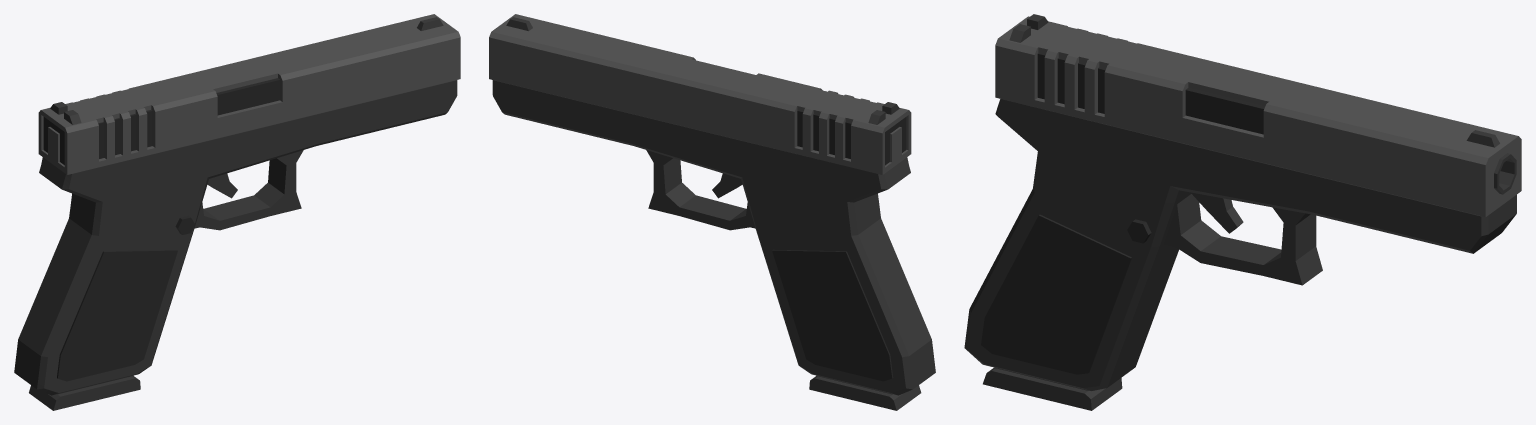
File: SideArm.fbx
3 renders of one model, left to right at view 1: azimuth 30°, elevation 25°; view 2: azimuth 150°, elevation 25°; view 3: azimuth 330°, elevation 25°, orthographic. The views are drawn at different scales.
Visible parts, largest first — view 1: Weapon_01, Weapon_01_2, Weapon_01_4, Weapon_01_3; view 2: Weapon_01, Weapon_01_2, Weapon_01_4, Weapon_01_3; view 3: Weapon_01, Weapon_01_2, Weapon_01_4, Weapon_01_3.
Boxes of the visible parts, bbox=[...] form: Weapon_01: bbox=[14, 78, 457, 395]; Weapon_01_2: bbox=[38, 14, 460, 174]; Weapon_01_4: bbox=[29, 375, 140, 410]; Weapon_01_3: bbox=[207, 173, 237, 198]; Weapon_01: bbox=[492, 80, 935, 395]; Weapon_01_2: bbox=[489, 14, 911, 174]; Weapon_01_4: bbox=[809, 375, 921, 410]; Weapon_01_3: bbox=[712, 173, 742, 198]; Weapon_01: bbox=[964, 53, 1516, 390]; Weapon_01_2: bbox=[995, 14, 1521, 217]; Weapon_01_4: bbox=[983, 367, 1122, 410]; Weapon_01_3: bbox=[1190, 192, 1243, 233].
Size of the model in its own units: 24.12 by 15.61 by 3.15.
1 material, 1 textured.
